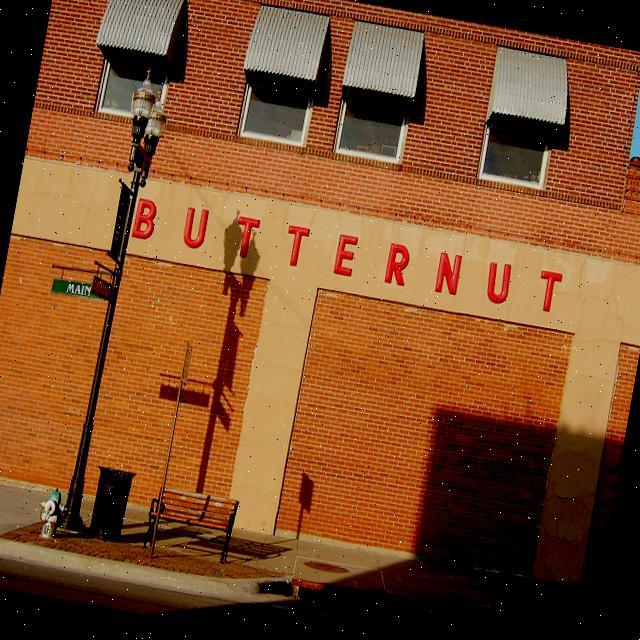fire_hydrant: (32, 482, 72, 540)
